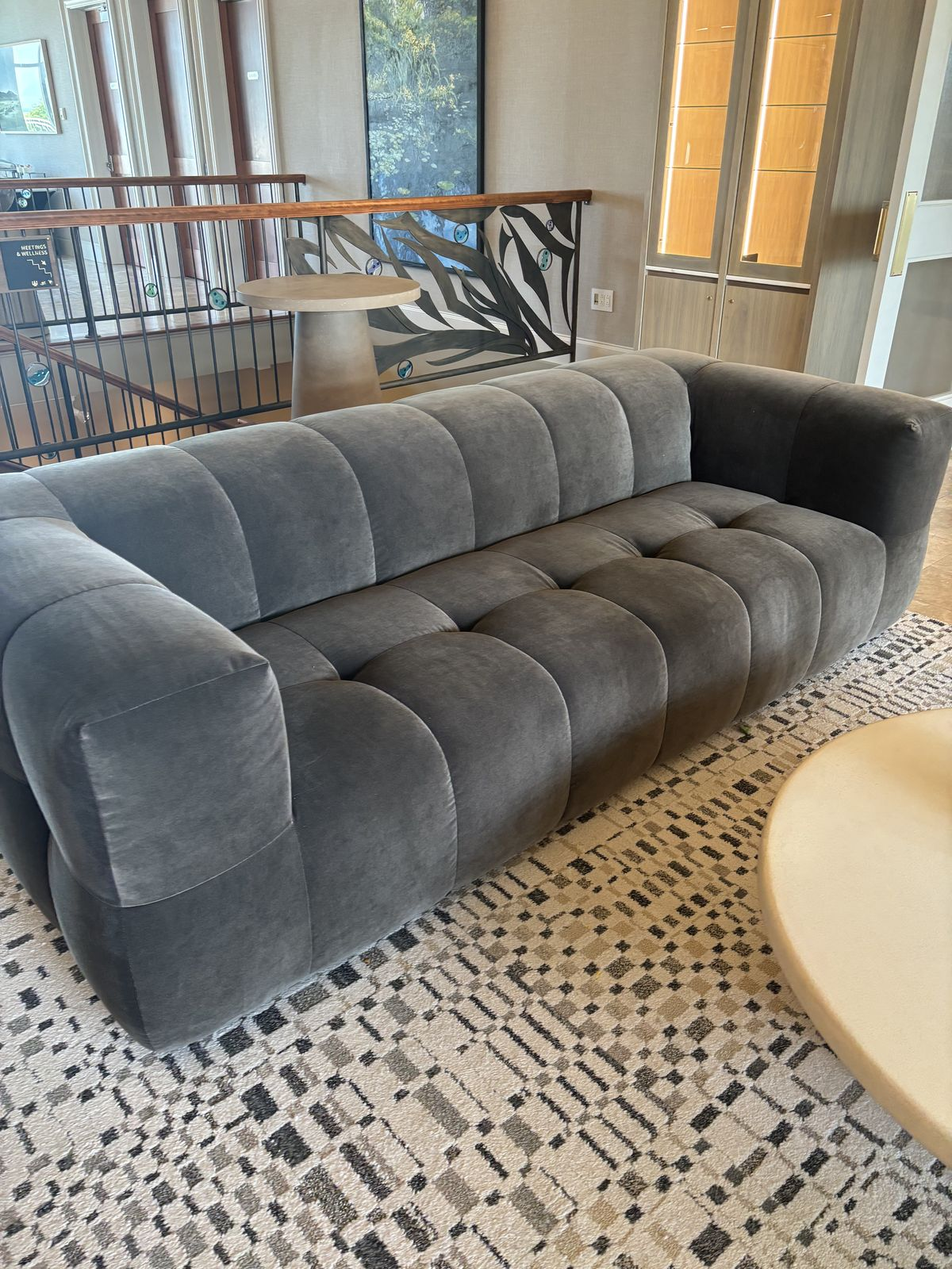3seatersofa: (0, 350, 951, 1049)
backrest: (34, 356, 689, 630)
leftarmrest: (647, 349, 951, 632)
rightarmrest: (0, 516, 310, 1049)
seat: (240, 483, 885, 964)
